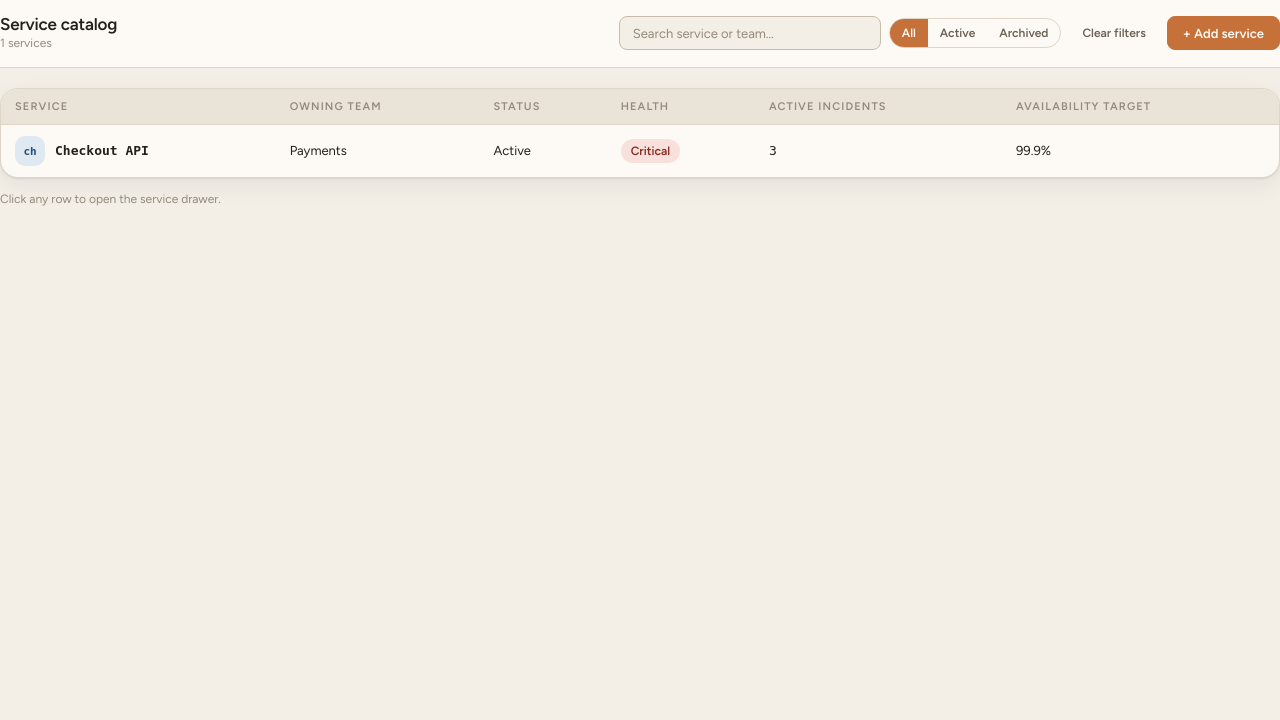
Scenario: ServicesPage › colors the drawer badges by real status/health, not a flat unstyled chip
Step 1. Click the text "Checkout API" → point(640, 151), box [1,124,1279,177]
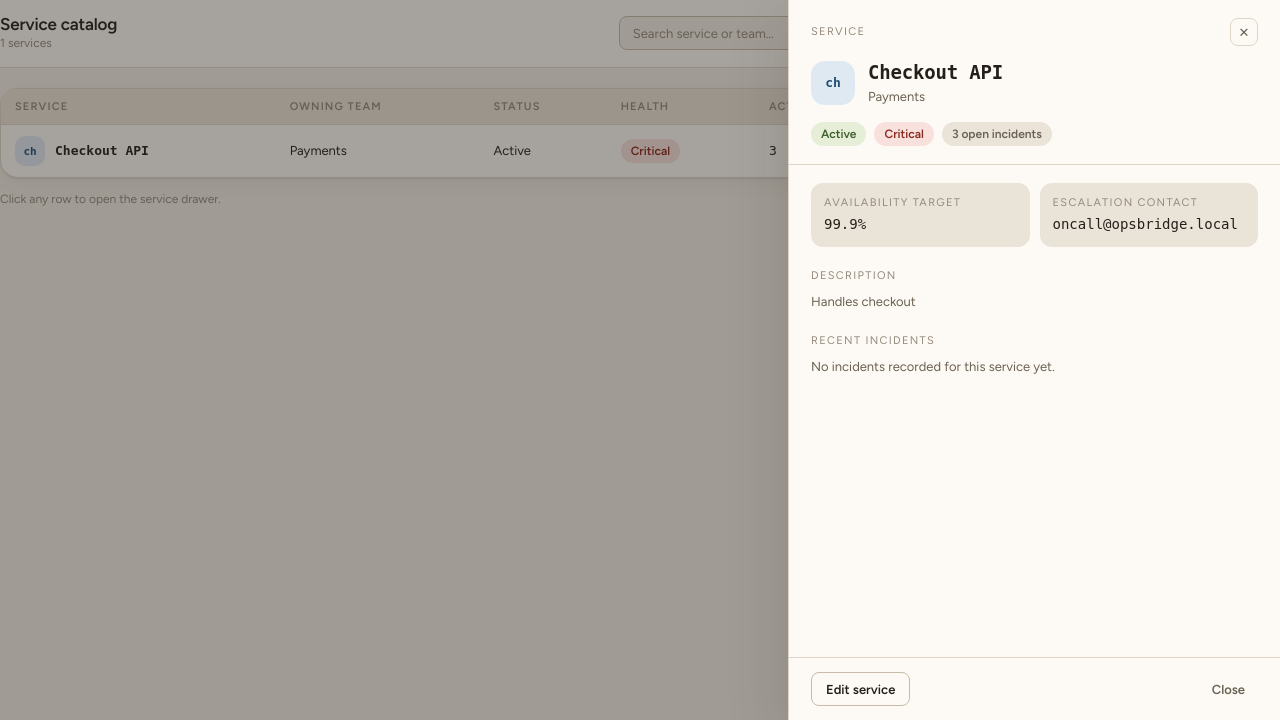
Check: the text "Handles checkout" is shown, box [811,294,916,309]
